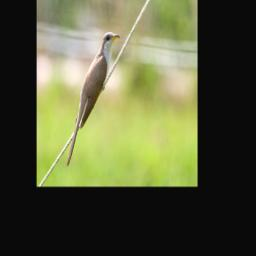Cuckoo: (65, 31, 121, 171)
